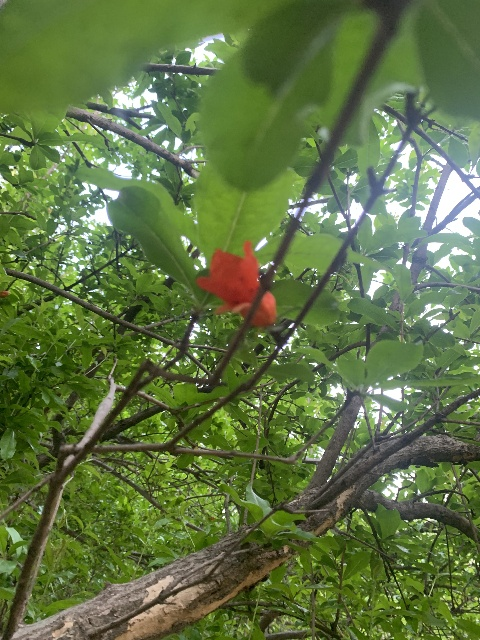flower: (196, 240, 276, 327)
